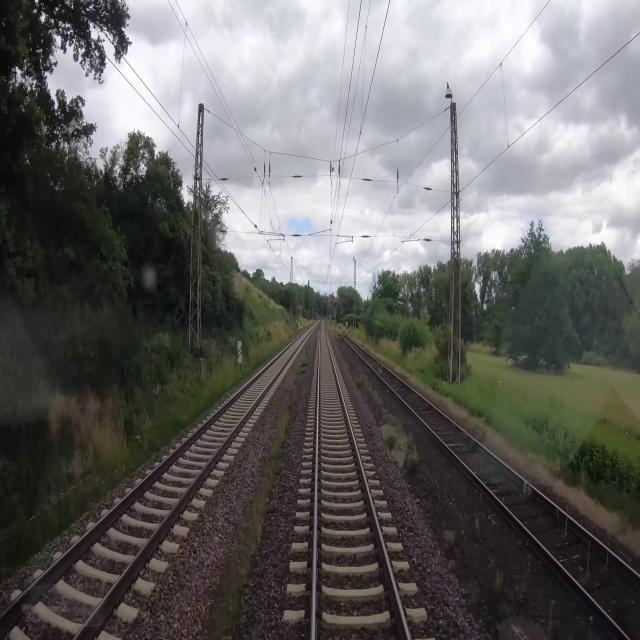Plant: (205, 407, 289, 639), (356, 371, 403, 452), (403, 434, 422, 473), (296, 355, 308, 381)
